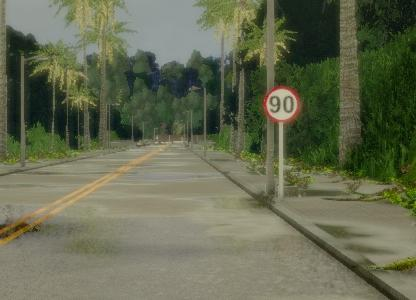Speed_90: (263, 88, 303, 121)
